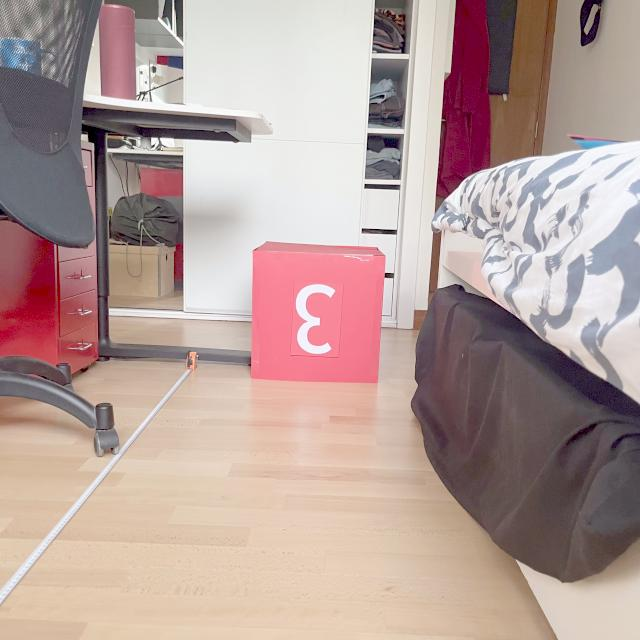box: (246, 236, 387, 386)
